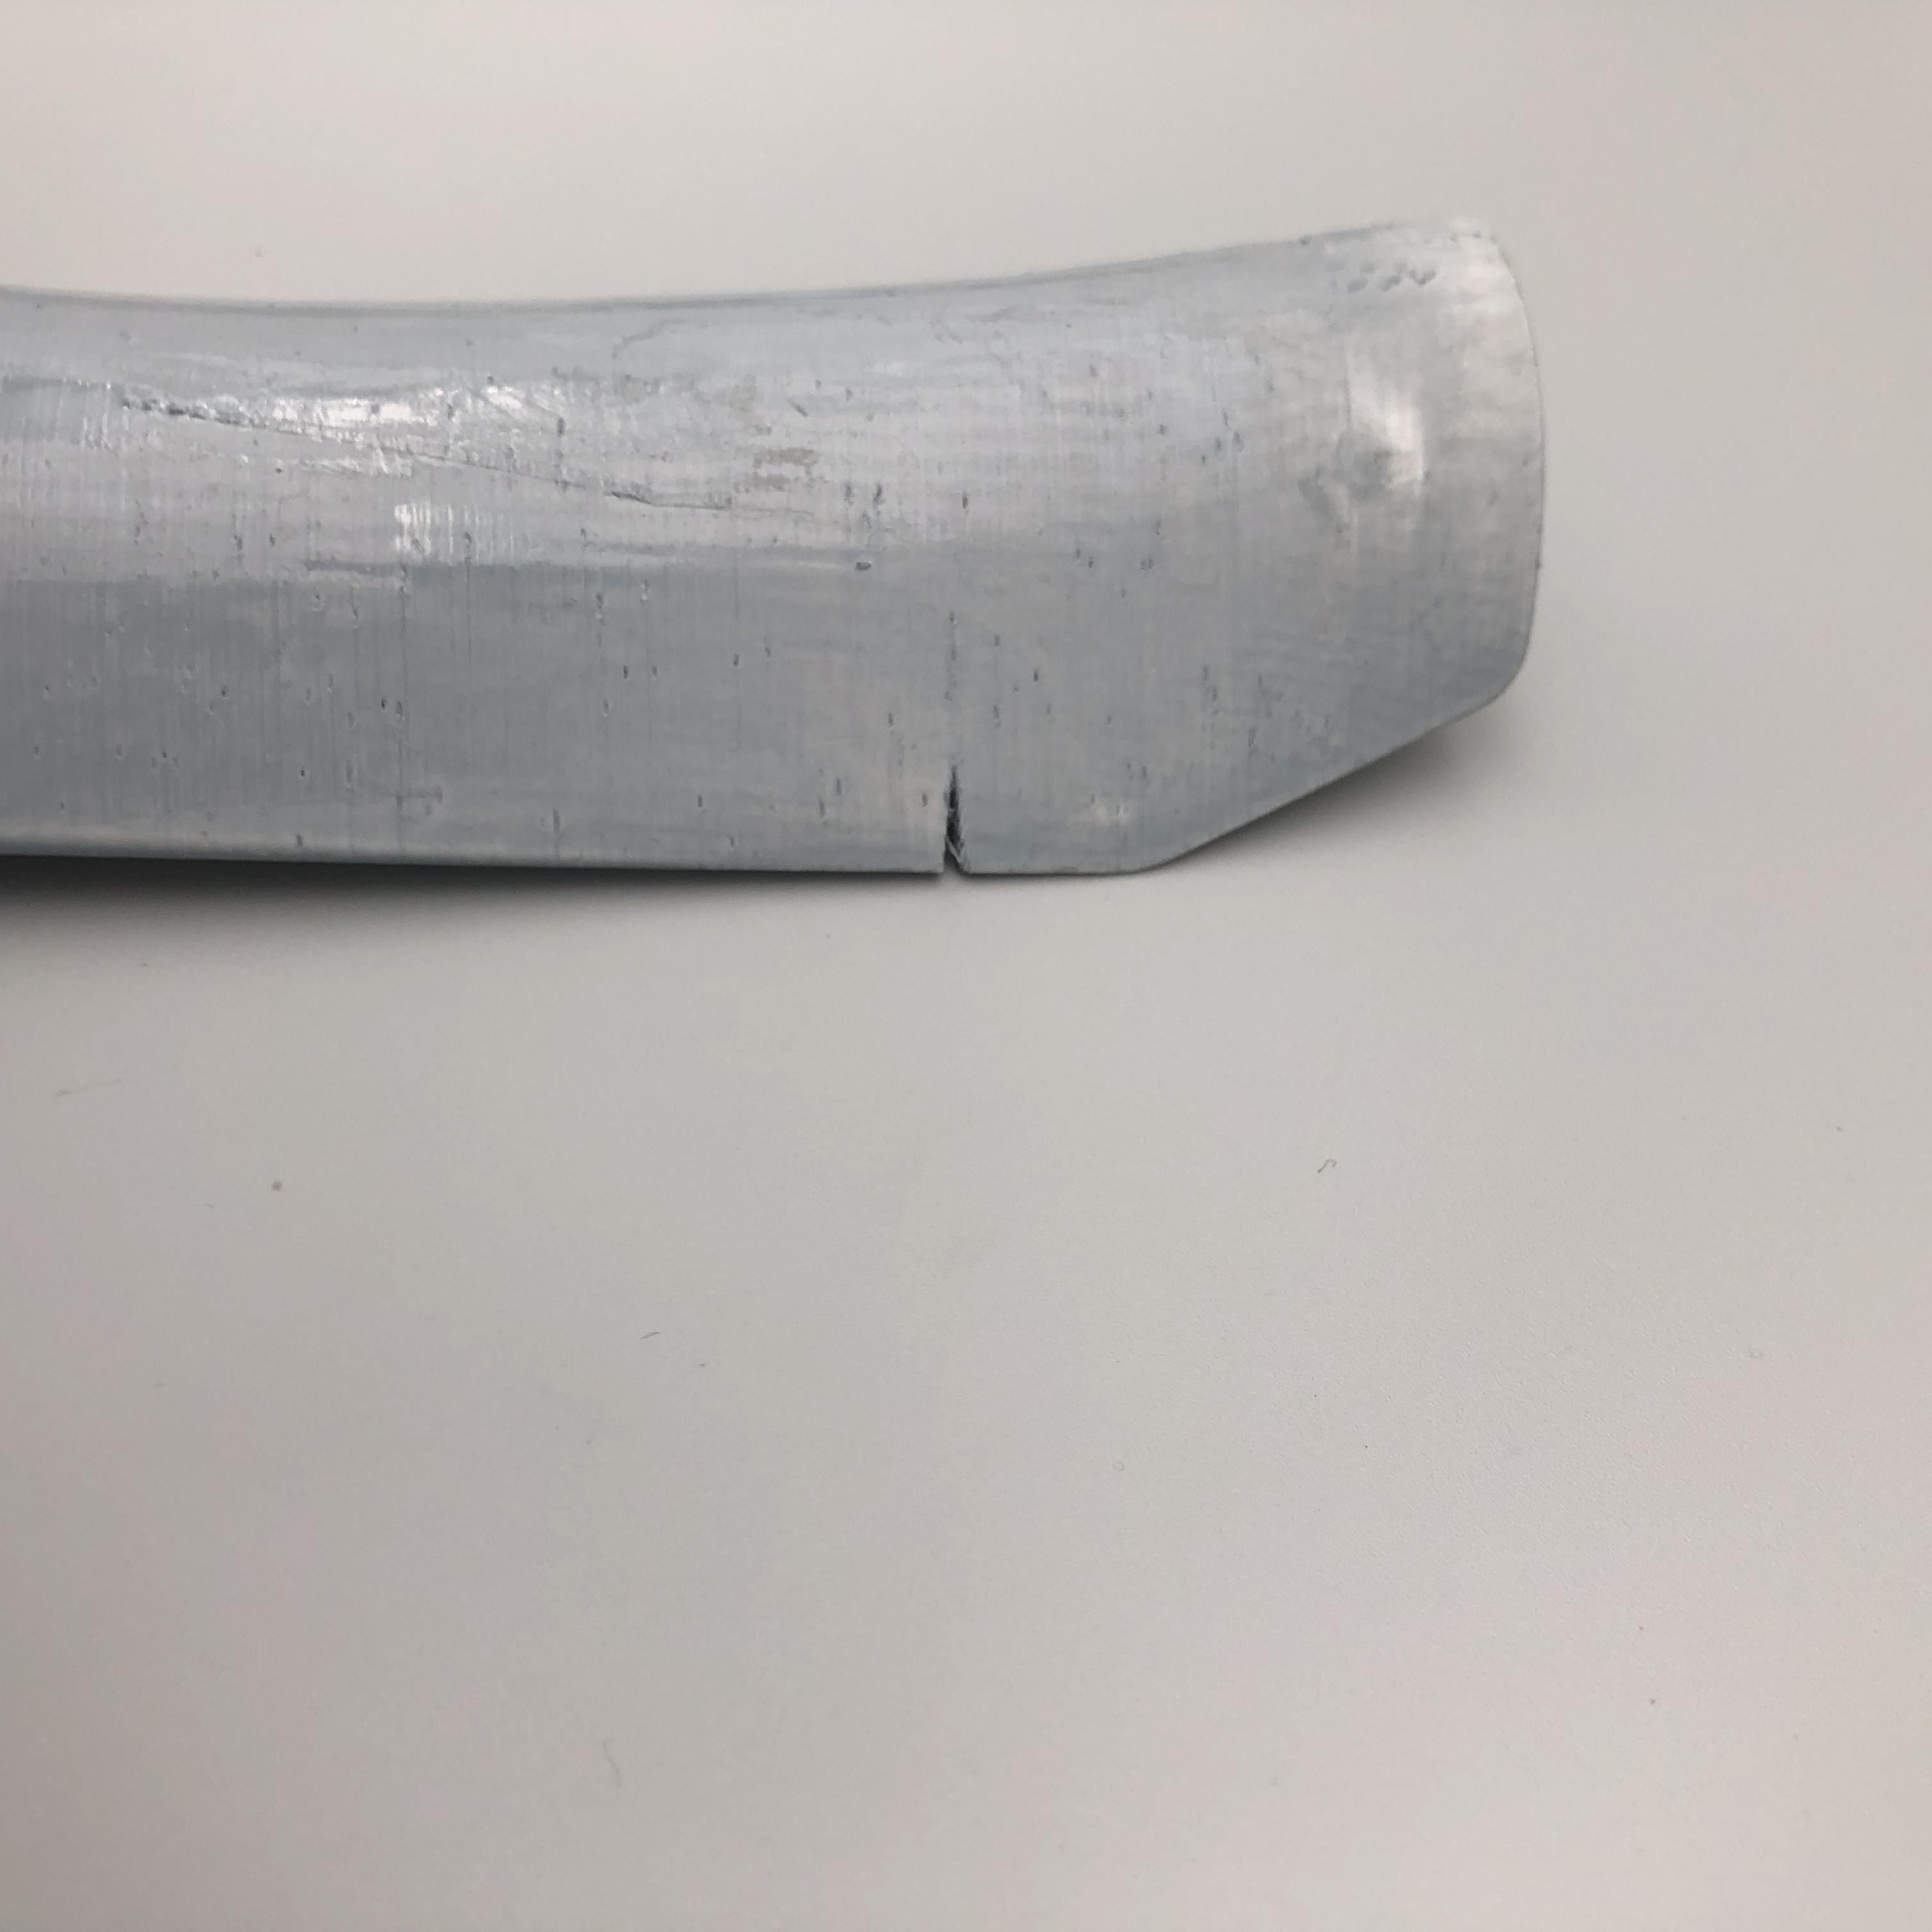groove: (929, 766, 989, 876)
